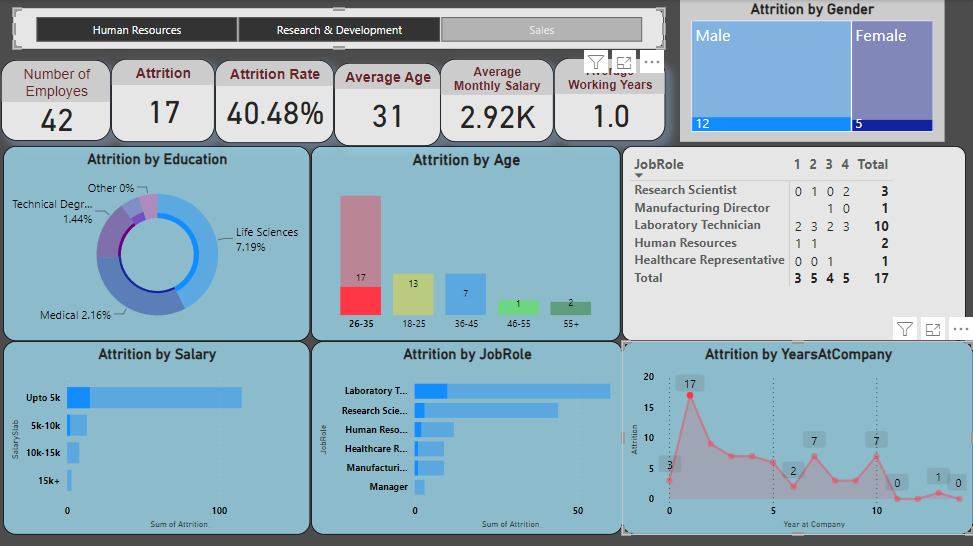

The page's visual inventory and layout, read from the dashboard file:
{"tool":"powerbi","page":{"name":"Page 1","canvas":[1280,720],"ordinal":0},"visuals":[{"type":"card","title":"Number of Employes","fields":{"Values":["Sum(HR_Analytics_.EmployeeCount)"]},"box":[4.3,78.6,144.3,105.7],"z":0},{"type":"card","title":"Attrition","fields":{"Values":["Sum(HR_Analytics_.Attrition_)"]},"box":[148.6,77.1,135.7,108.6],"z":1000},{"type":"card","title":"Attrition Rate","fields":{"Values":["HR_Analytics_.Attrition_rate"]},"box":[284.3,78.6,155.7,108.6],"z":2000},{"type":"card","title":"Average Age","fields":{"Values":["Avg(HR_Analytics_.Age)"]},"box":[440,82.9,140,108.6],"z":3000},{"type":"card","title":"Average Monthly Salary","fields":{"Values":["Avg(HR_Analytics_.MonthlyIncome)"]},"box":[580,77.1,148.6,108.6],"z":4000},{"type":"card","title":"Average Working Years","fields":{"Values":["Avg(HR_Analytics_.YearsAtCompany)"]},"box":[728.6,75.7,145.7,108.6],"z":5000},{"type":"donutChart","title":"Attrition by Education","fields":{"Y":["Sum(HR_Analytics_.Attrition_)"],"Category":["HR_Analytics_.EducationField"]},"box":[7.1,191.4,402.9,255.7],"z":6000},{"type":"columnChart","title":"Attrition by Age","fields":{"Category":["HR_Analytics_.AgeGroup"],"Y":["Sum(HR_Analytics_.Attrition_)"]},"box":[410,191.4,405.7,255.7],"z":7000},{"type":"slicer","fields":{"Values":["HR_Analytics_.Department"]},"box":[20,10,854.3,54.3],"z":8000},{"type":"pivotTable","title":"Attrition by Education","fields":{"Values":["Sum(HR_Analytics_.Attrition_)"],"Rows":["HR_Analytics_.JobRole"],"Columns":["HR_Analytics_.JobSatisfaction"]},"box":[818.6,191.4,451.4,255.7],"z":9000},{"type":"barChart","title":"Attrition by Salary","fields":{"Y":["Sum(HR_Analytics_.Attrition_)"],"Category":["HR_Analytics_.SalarySlab"]},"box":[7.1,447.1,402.9,254.3],"z":10000},{"type":"barChart","title":"Attrition by JobRole","fields":{"Y":["Sum(HR_Analytics_.Attrition_)"],"Category":["HR_Analytics_.JobRole"]},"box":[410,447.1,408.6,254.3],"z":11000},{"type":"areaChart","title":"Attrition by YearsAtCompany","fields":{"Category":["HR_Analytics_.YearsAtCompany"],"Y":["Sum(HR_Analytics_.Attrition_)"]},"box":[818.6,447.1,461.4,254.3],"z":12000},{"type":"treemap","title":"Attrition by Gender","fields":{"Group":["HR_Analytics_.Gender"],"Values":["Sum(HR_Analytics_.Attrition_)"]},"box":[894.3,0,347.1,185.7],"z":13000}]}

Visuals, with their boxes in screenshot pixels (x1, y1, x2, y2), scaled from the page's 1280x720 canvas onto the 973x546 screenshot:
"Number of Employes" card: [left=3, top=60, right=113, bottom=140]
"Attrition" card: [left=113, top=58, right=216, bottom=141]
"Attrition Rate" card: [left=216, top=60, right=334, bottom=142]
"Average Age" card: [left=334, top=63, right=441, bottom=145]
"Average Monthly Salary" card: [left=441, top=58, right=554, bottom=141]
"Average Working Years" card: [left=554, top=57, right=665, bottom=140]
"Attrition by Education" donutChart: [left=5, top=145, right=312, bottom=339]
"Attrition by Age" columnChart: [left=312, top=145, right=620, bottom=339]
slicer - HR_Analytics_.Department: [left=15, top=8, right=665, bottom=49]
"Attrition by Education" pivotTable: [left=622, top=145, right=965, bottom=339]
"Attrition by Salary" barChart: [left=5, top=339, right=312, bottom=532]
"Attrition by JobRole" barChart: [left=312, top=339, right=622, bottom=532]
"Attrition by YearsAtCompany" areaChart: [left=622, top=339, right=972, bottom=532]
"Attrition by Gender" treemap: [left=680, top=0, right=944, bottom=141]
